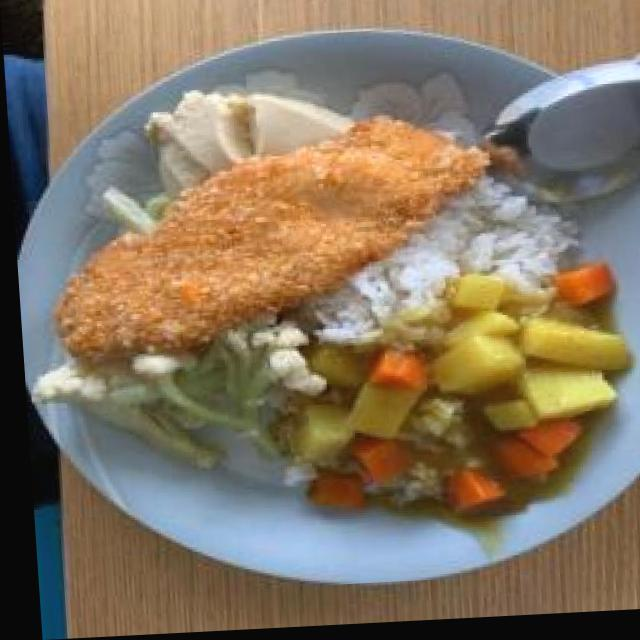curry: (258, 267, 634, 530)
fried_chicken: (35, 119, 492, 367)
rice: (296, 183, 569, 348)
